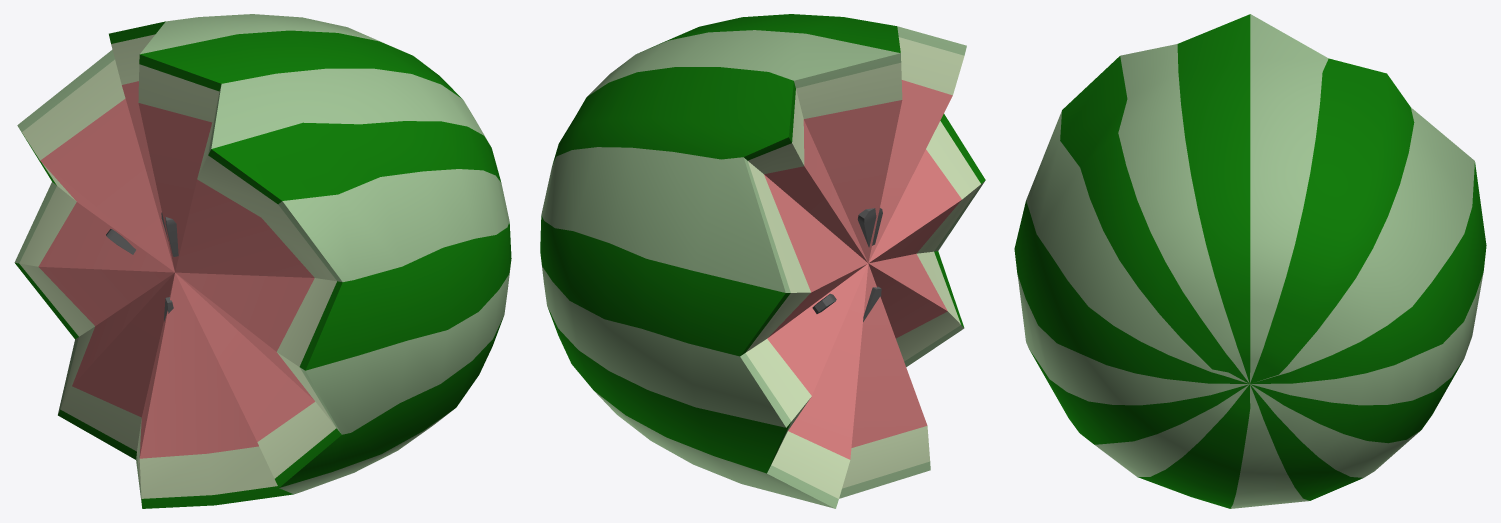
The model's file is R_Half.fbx.
3 views of the same model, side by side, from view 1: azimuth 30°, elevation 25°; view 2: azimuth 150°, elevation 25°; view 3: azimuth 270°, elevation 25° (orthographic). The views are drawn at different scales.
Visible parts, largest first — view 1: R_Half; view 2: R_Half; view 3: R_Half.
Part boxes in pixels (x1=…): R_Half: x1=14, y1=14, x2=511, y2=508; R_Half: x1=540, y1=14, x2=985, y2=508; R_Half: x1=1014, y1=14, x2=1486, y2=508.
Size of the model in its own units: 17.67 by 21.56 by 22.35.
